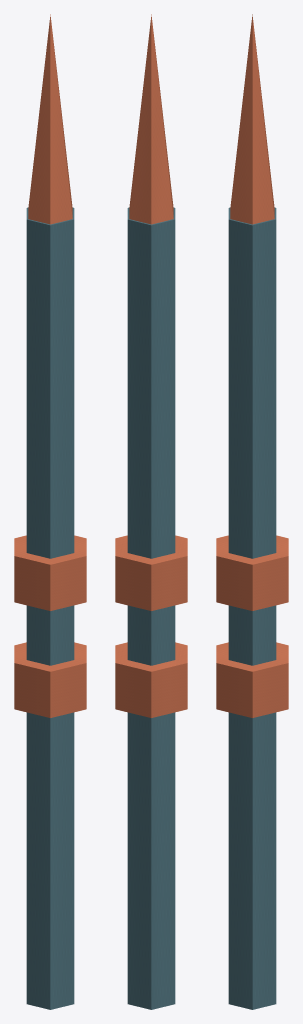
The model's file is atlas100-s042-a05.lod1.glb.
3 renders of one model, left to right at view 1: azimuth 90°, elevation 25°; view 2: azimuth 210°, elevation 25°; view 3: azimuth 270°, elevation 25°, orthographic.
Parts seen in each view (by area): view 1: atlas100-s042-a05:part-000, atlas100-s042-a05:part-004, atlas100-s042-a05:part-002, atlas100-s042-a05:part-003; view 2: atlas100-s042-a05:part-000, atlas100-s042-a05:part-004, atlas100-s042-a05:part-002, atlas100-s042-a05:part-003; view 3: atlas100-s042-a05:part-000, atlas100-s042-a05:part-004, atlas100-s042-a05:part-002, atlas100-s042-a05:part-003.
Boxes of the visible parts, bbox=[...] form: atlas100-s042-a05:part-000: bbox=[26, 207, 74, 1009]; atlas100-s042-a05:part-004: bbox=[28, 14, 72, 224]; atlas100-s042-a05:part-002: bbox=[14, 642, 86, 717]; atlas100-s042-a05:part-003: bbox=[14, 535, 86, 610]; atlas100-s042-a05:part-000: bbox=[127, 207, 175, 1009]; atlas100-s042-a05:part-004: bbox=[129, 14, 173, 224]; atlas100-s042-a05:part-002: bbox=[115, 642, 187, 717]; atlas100-s042-a05:part-003: bbox=[115, 535, 187, 610]; atlas100-s042-a05:part-000: bbox=[228, 207, 276, 1009]; atlas100-s042-a05:part-004: bbox=[230, 14, 274, 224]; atlas100-s042-a05:part-002: bbox=[216, 642, 288, 717]; atlas100-s042-a05:part-003: bbox=[216, 535, 288, 610].
Bounding box in the file's own units: 0.1158 × 1.51 × 0.1002.
2 materials, 2 textured.
